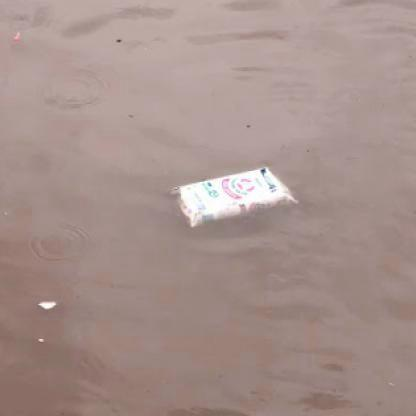Trash: (166, 165, 298, 226)
